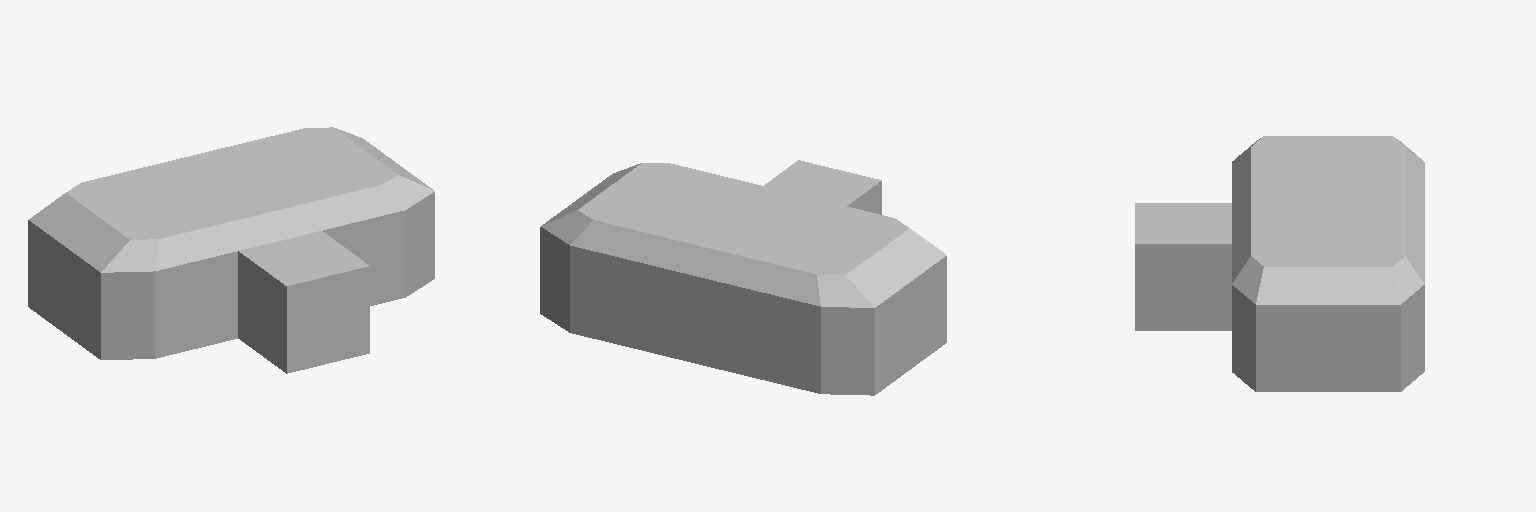
File: room.obj
3 renders of one model, left to right at view 1: azimuth 30°, elevation 25°; view 2: azimuth 150°, elevation 25°; view 3: azimuth 270°, elevation 25°, orthographic.
Parts seen in each view (by area): view 1: Room; view 2: Room; view 3: Room.
Part boxes in pixels (left/top/right/bottom): Room: left=28, top=127, right=434, bottom=373; Room: left=540, top=160, right=946, bottom=395; Room: left=1135, top=136, right=1424, bottom=391.
Bounding box in the file's own units: 8 × 2.5 × 6.